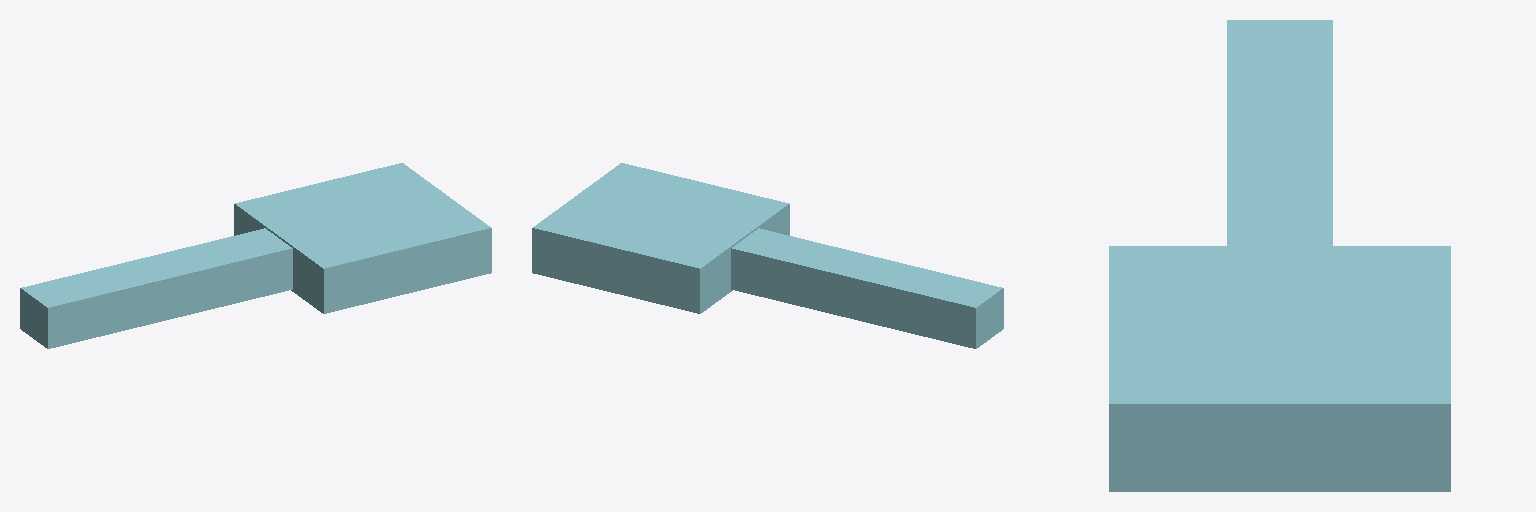
The robot description file, URDF, robot "cuboid_brush_v10014":
<?xml version="1.0"?>
<robot name="cuboid_brush_v10014">

  <link name="cuboid_brush_v10014">
    <!-- Handle -->
    <visual>
      <origin xyz="0 0 0" rpy="0 0 0"/>
      <geometry>
        <box size="0.12764922819315938 0.024718237465356157 0.02059491332364996"/>
      </geometry>
      <material name="material">
        <color rgba="0.639 0.847 0.882 1.0"/>
      </material>
    </visual>
    <collision>
      <origin xyz="0 0 0" rpy="0 0 0"/>
      <geometry>
        <box size="0.12764922819315938 0.024718237465356157 0.02059491332364996"/>
      </geometry>
    </collision>

    <!-- Head -->
    <visual>
      <origin xyz="0.10760449457177781 0 0" rpy="0 0 0"/>
      <geometry>
        <box size="0.08755976095039625 0.08041941592883832 0.02263509665784135"/>
      </geometry>
      <material name="material">
        <color rgba="0.639 0.847 0.882 1.0"/>
      </material>
    </visual>
    <collision>
      <origin xyz="0.10760449457177781 0 0" rpy="0 0 0"/>
      <geometry>
        <box size="0.08755976095039625 0.08041941592883832 0.02263509665784135"/>
      </geometry>
    </collision>

    <inertial>
      <density value="400.0"/>
    </inertial>
  </link>

</robot>

--- What the picture shows (computed from the rendered views, not written in the file) ---
The picture shows the robot from 3 angles, left to right: view 1: azimuth 30°, elevation 25°; view 2: azimuth 150°, elevation 25°; view 3: azimuth 270°, elevation 25°; orthographic projection.
Robot: cuboid_brush_v10014 — 1 links, 0 joints (none); root link cuboid_brush_v10014; default pose: every joint at zero.
Visible links, largest first — view 1: cuboid_brush_v10014; view 2: cuboid_brush_v10014; view 3: cuboid_brush_v10014.
Link boxes in pixels (x1,y1,x2,y2): cuboid_brush_v10014: [20, 163, 491, 348]; cuboid_brush_v10014: [532, 163, 1003, 348]; cuboid_brush_v10014: [1109, 20, 1450, 491].
Size in the robot's own frame: 0.2152 by 0.0804 by 0.0226 metres.
Geometry: primitives only (box / cylinder / sphere), no mesh files.
